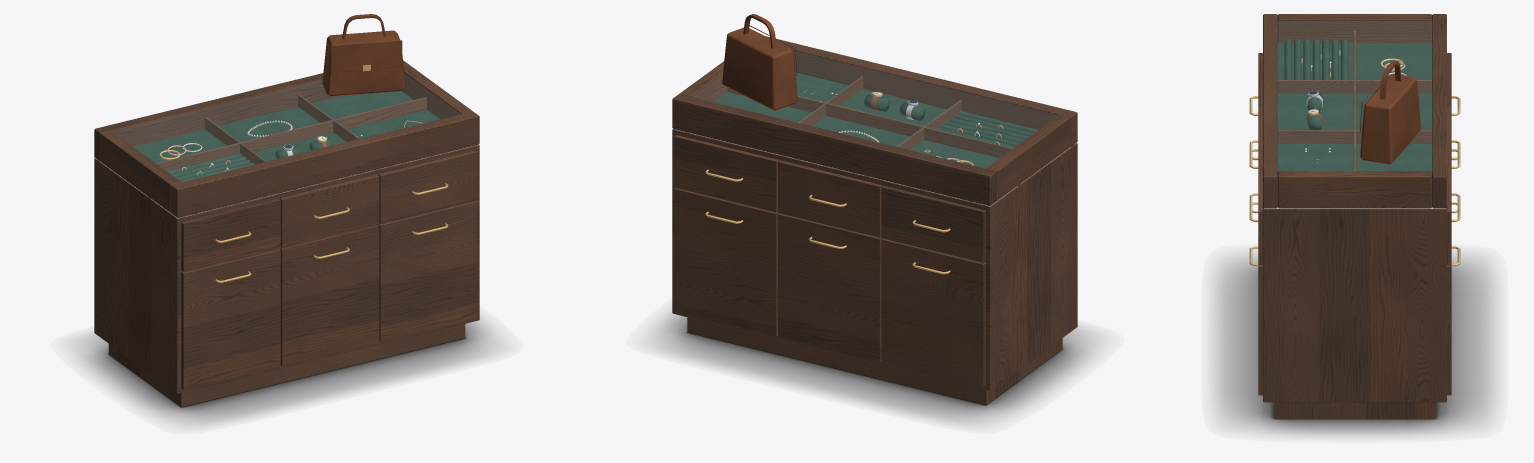
Rendered from jewelry_island.glb.
3 views of the same model, side by side, from view 1: azimuth 30°, elevation 25°; view 2: azimuth 150°, elevation 25°; view 3: azimuth 270°, elevation 25° (orthographic). The views are drawn at different scales.
Parts seen in each view (by area): view 1: jewelry_island_LOD0, jewelry_island_Shadow; view 2: jewelry_island_LOD0, jewelry_island_Shadow; view 3: jewelry_island_LOD0, jewelry_island_Shadow.
Part boxes in pixels (x1,y1,x2,y2): jewelry_island_LOD0: (94, 14, 479, 407); jewelry_island_Shadow: (77, 319, 497, 424); jewelry_island_LOD0: (672, 14, 1077, 404); jewelry_island_Shadow: (653, 312, 1096, 423); jewelry_island_LOD0: (1249, 14, 1460, 418); jewelry_island_Shadow: (1215, 254, 1494, 435).
Size of what is drawn, in the model's own units: 1.7 by 1.22 by 1.11.
Materials: 7 (5 with a texture image).
